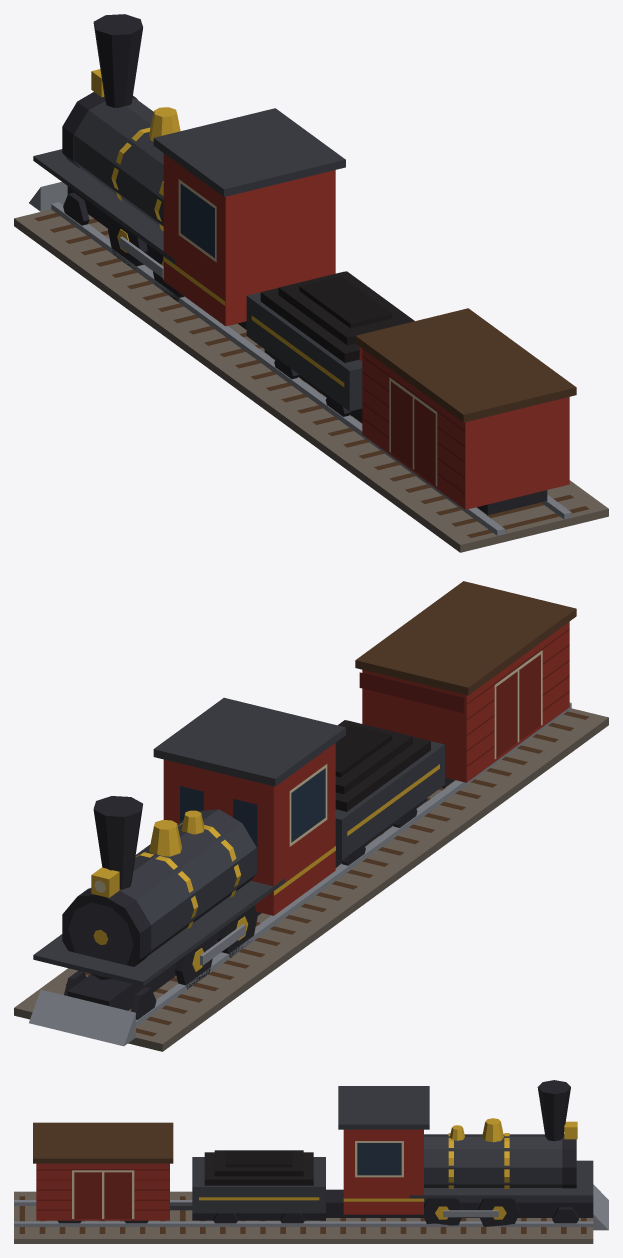
Rendered from Decor_WesternSaloon_Train.fbx.
The picture shows the model from 3 angles, top to bottom: view 1: azimuth 30°, elevation 25°; view 2: azimuth 150°, elevation 25°; view 3: azimuth 270°, elevation 25°; orthographic projection. The views are drawn at different scales.
Visible parts, largest first — view 1: Train_Body; view 2: Train_Body; view 3: Train_Body.
Part boxes in pixels (box(x1,y1,x2,y2)): Train_Body: box(14, 14, 608, 552); Train_Body: box(14, 581, 608, 1051); Train_Body: box(14, 1080, 608, 1243).
Size of the model in its own units: 10 by 13.2 by 53.4.
